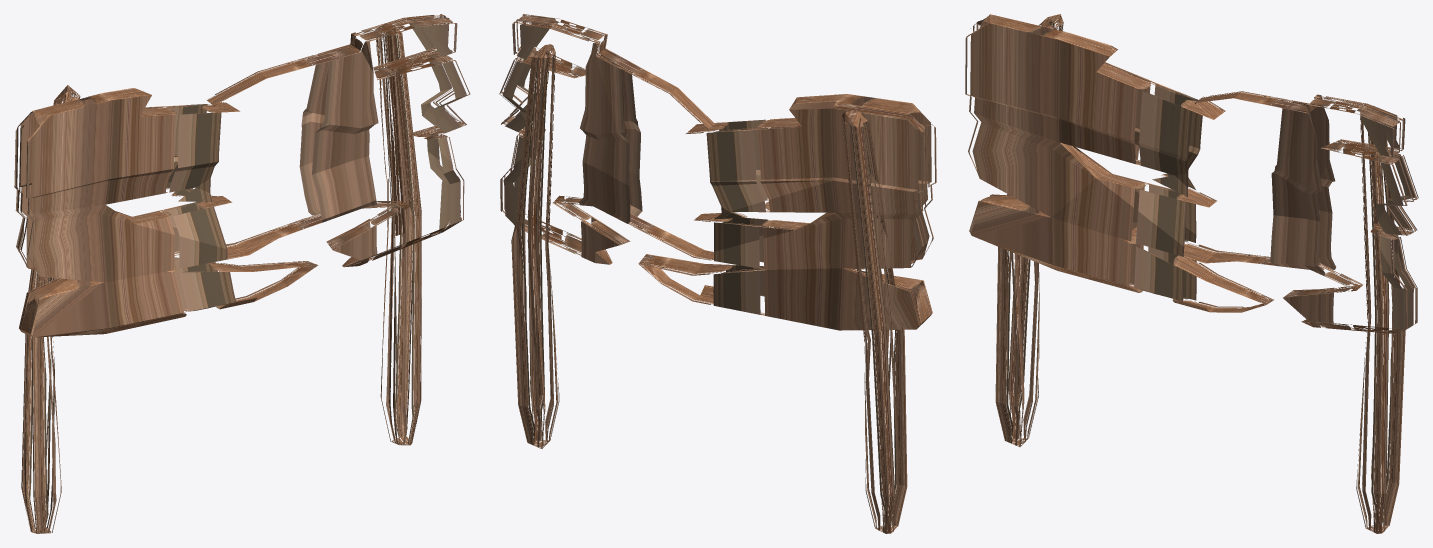
The picture shows the model from 3 angles, left to right: view 1: azimuth 30°, elevation 25°; view 2: azimuth 150°, elevation 25°; view 3: azimuth 330°, elevation 25°; orthographic projection. The views are drawn at different scales.
Parts seen in each view (by area): view 1: SM_Wooden_Table_02v2_LOD0; view 2: SM_Wooden_Table_02v2_LOD0; view 3: SM_Wooden_Table_02v2_LOD0.
Part boxes in pixels (x1,y1,x2,y2): SM_Wooden_Table_02v2_LOD0: (14,14,470,533); SM_Wooden_Table_02v2_LOD0: (499,14,936,533); SM_Wooden_Table_02v2_LOD0: (965,14,1418,533).
Bounding box in the file's own units: 1.94 × 1.8 × 0.2476.
